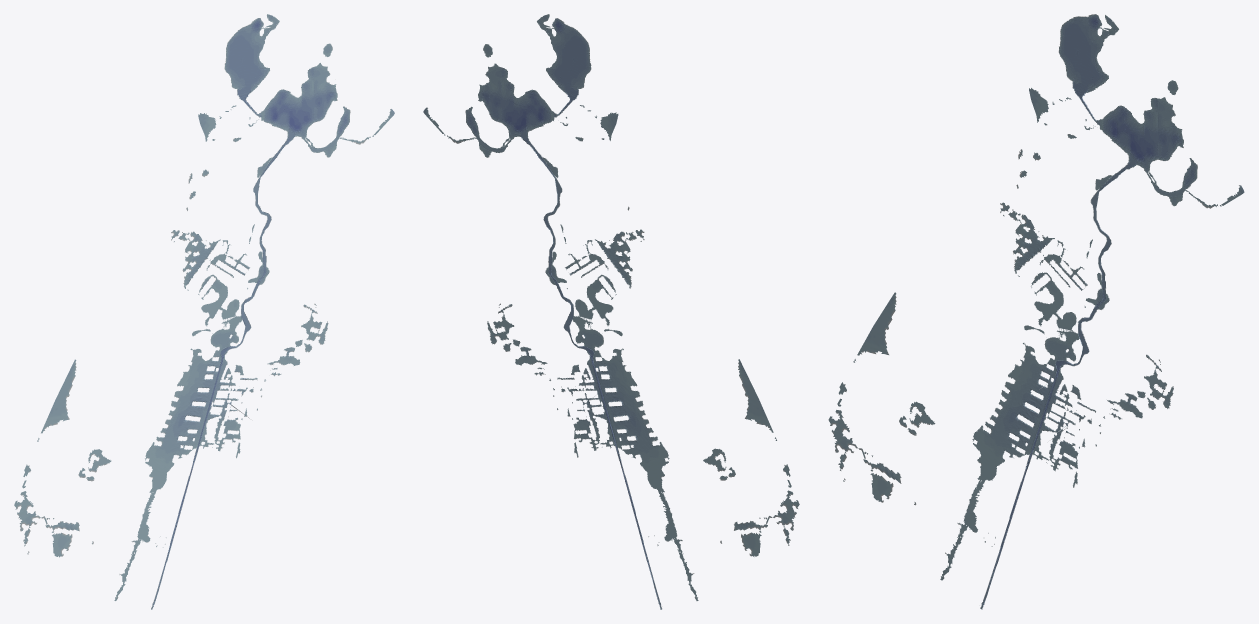
File: triangle_mesh_0.05.glb
3 views of the same model, side by side, from view 1: azimuth 30°, elevation 25°; view 2: azimuth 150°, elevation 25°; view 3: azimuth 330°, elevation 25° (orthographic). The views are drawn at different scales.
Parts seen in each view (by area): view 1: world; view 2: world; view 3: world.
Part boxes in pixels (x1,y1,x2,y2): world: (14,14,394,609); world: (423,14,799,609); world: (828,14,1244,609).
Size of the model in its own units: 1909 by 2739 by 204.
